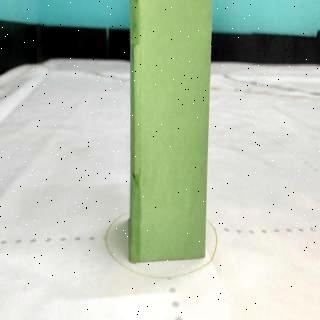greenbox: (126, 0, 208, 263)
